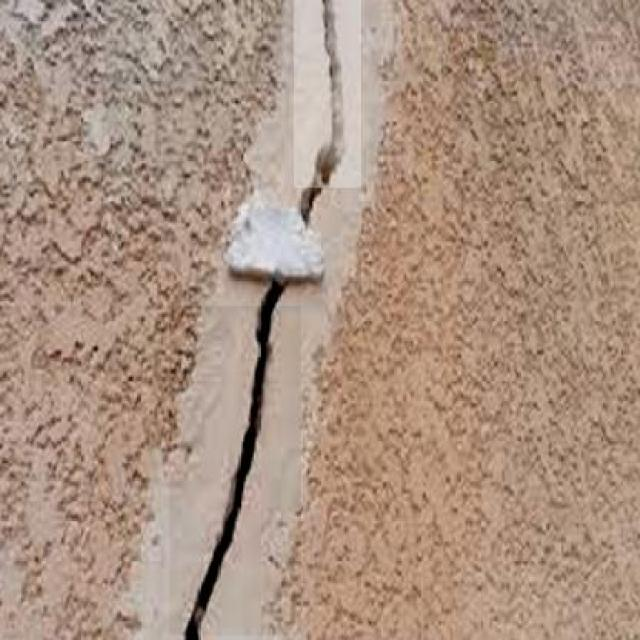Crack: (172, 281, 296, 640), (282, 0, 358, 223)
